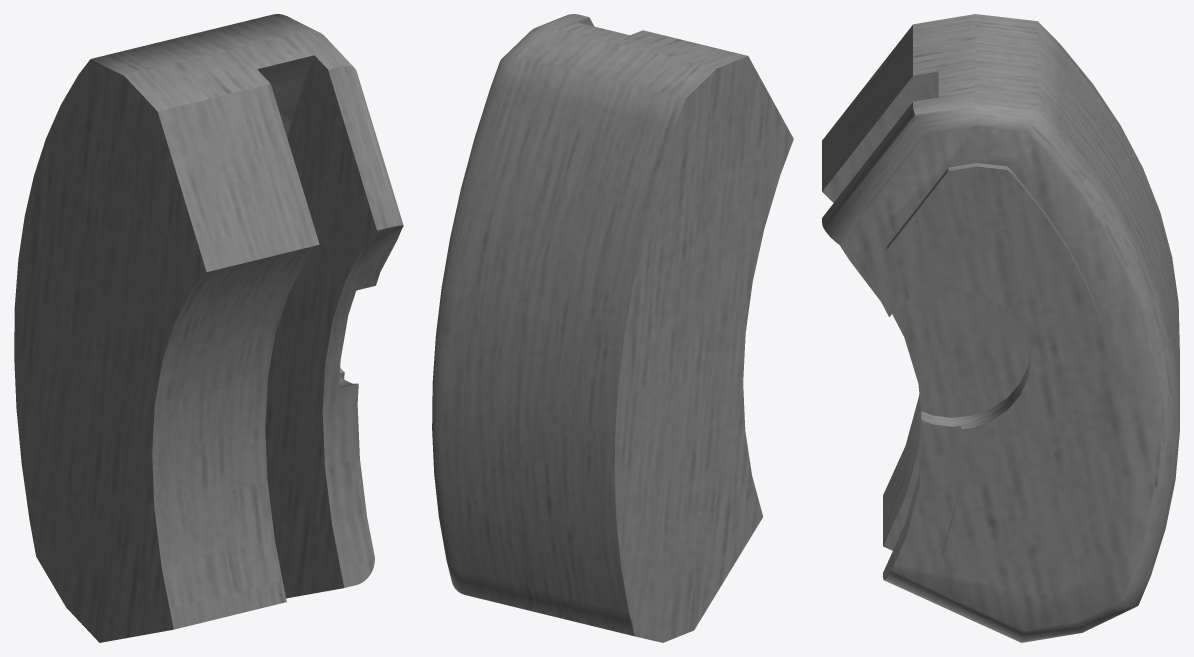
File: caliper.obj
3 renders of one model, left to right at view 1: azimuth 30°, elevation 25°; view 2: azimuth 150°, elevation 25°; view 3: azimuth 270°, elevation 25°, orthographic. The views are drawn at different scales.
Parts seen in each view (by area): view 1: Mesh4 Component_4_1 Model, Mesh1 Group1 Component_4_1 Model; view 2: Mesh4 Component_4_1 Model; view 3: Mesh4 Component_4_1 Model.
Part boxes in pixels (left/top/right/bottom): Mesh4 Component_4_1 Model: left=14, top=14, right=403, bottom=642; Mesh1 Group1 Component_4_1 Model: left=257, top=55, right=314, bottom=138; Mesh4 Component_4_1 Model: left=432, top=14, right=793, bottom=642; Mesh4 Component_4_1 Model: left=822, top=14, right=1179, bottom=642.
Bounding box in the file's own units: 0.0884 × 0.2321 × 0.1383.
1 material, 1 textured.
